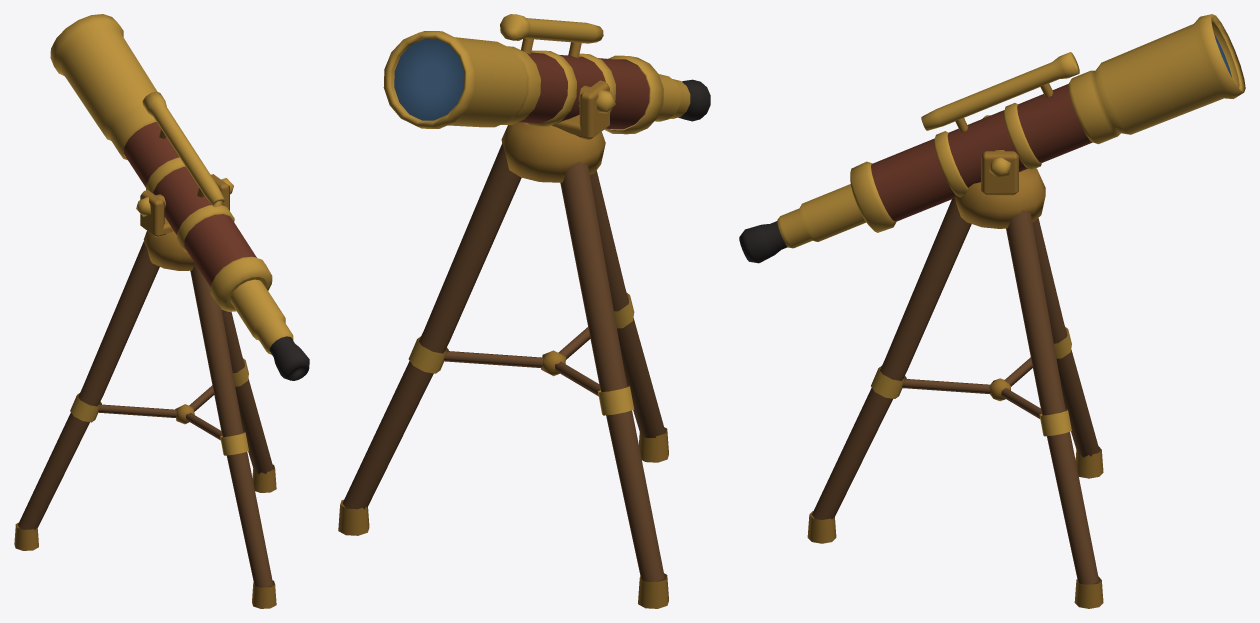
Rendered from telescope.glb.
3 renders of one model, left to right at view 1: azimuth 30°, elevation 25°; view 2: azimuth 150°, elevation 25°; view 3: azimuth 270°, elevation 25°, orthographic. The views are drawn at different scales.
Parts seen in each view (by area): view 1: telescope_main; view 2: telescope_main; view 3: telescope_main.
Boxes of the visible parts, left/top/right/bottom form: telescope_main: left=14, top=14, right=309, bottom=608; telescope_main: left=338, top=14, right=710, bottom=608; telescope_main: left=739, top=14, right=1245, bottom=608.
Size of the model in its own units: 0.7955 by 1.35 by 1.19.
